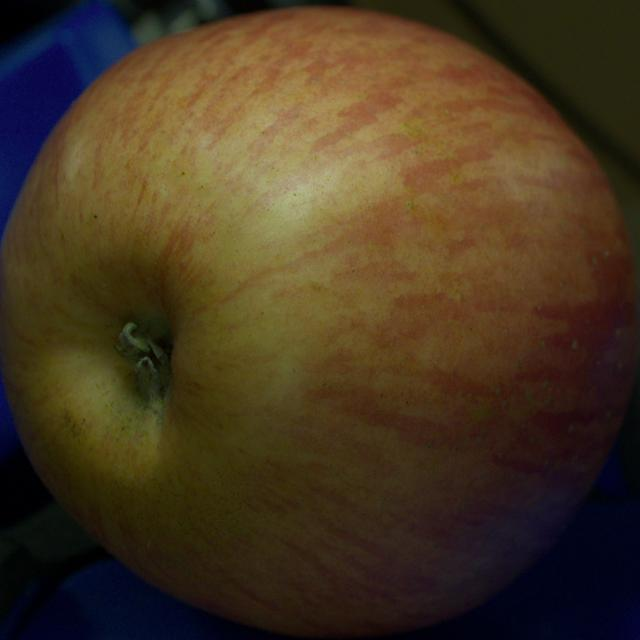apple: (0, 8, 638, 637)
